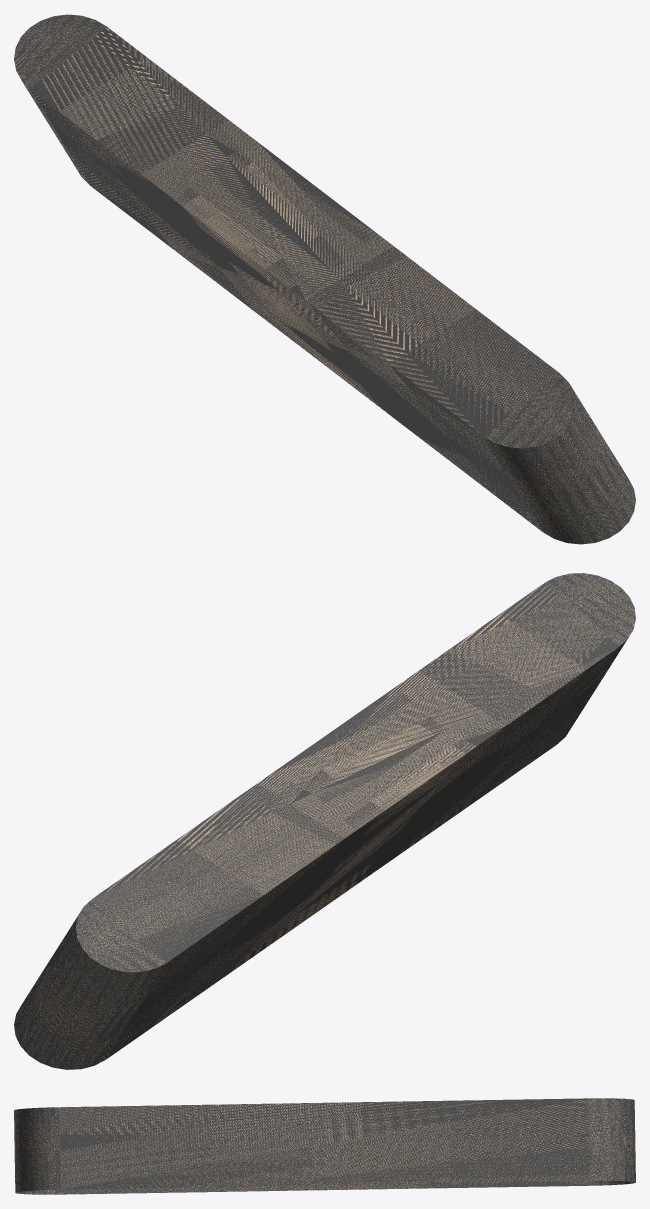
File: original-43.obj
3 renders of one model, top to bottom at view 1: azimuth 30°, elevation 25°; view 2: azimuth 150°, elevation 25°; view 3: azimuth 270°, elevation 25°, orthographic. The views are drawn at different scales.
Visible parts, largest first — view 1: mesh121/mesh121-geometry#mesh121-geometry; view 2: mesh121/mesh121-geometry#mesh121-geometry; view 3: mesh121/mesh121-geometry#mesh121-geometry.
Part boxes in pixels (x1,y1,x2,y2): mesh121/mesh121-geometry#mesh121-geometry: (14,14,635,544); mesh121/mesh121-geometry#mesh121-geometry: (14,573,635,1069); mesh121/mesh121-geometry#mesh121-geometry: (14,1098,635,1194).
Size of the model in its own units: 0.0339 by 0.0408 by 0.2291.
